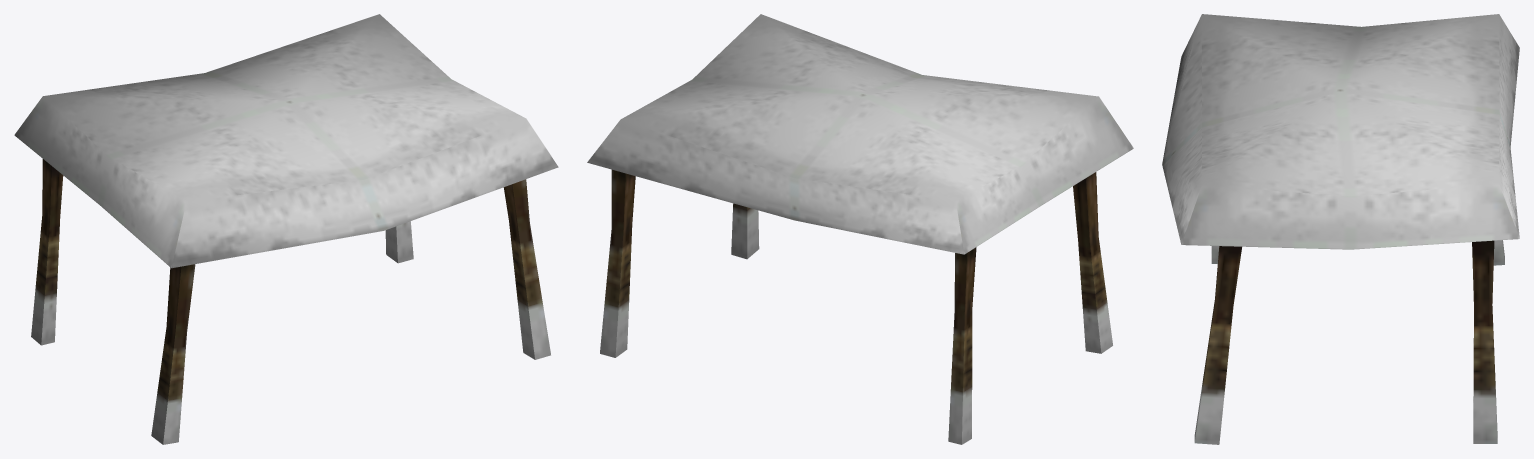
The model's file is nsm-general_obj_07.fbx.
The picture shows the model from 3 angles, left to right: view 1: azimuth 30°, elevation 25°; view 2: azimuth 150°, elevation 25°; view 3: azimuth 270°, elevation 25°; orthographic projection. The views are drawn at different scales.
Visible parts, largest first — view 1: Object01; view 2: Object01; view 3: Object01.
Boxes of the visible parts, <box> form: Object01: <box>14,14,558,444</box>; Object01: <box>587,14,1133,444</box>; Object01: <box>1162,14,1519,444</box>.
Size of the model in its own units: 4.57 by 2.85 by 3.54.
